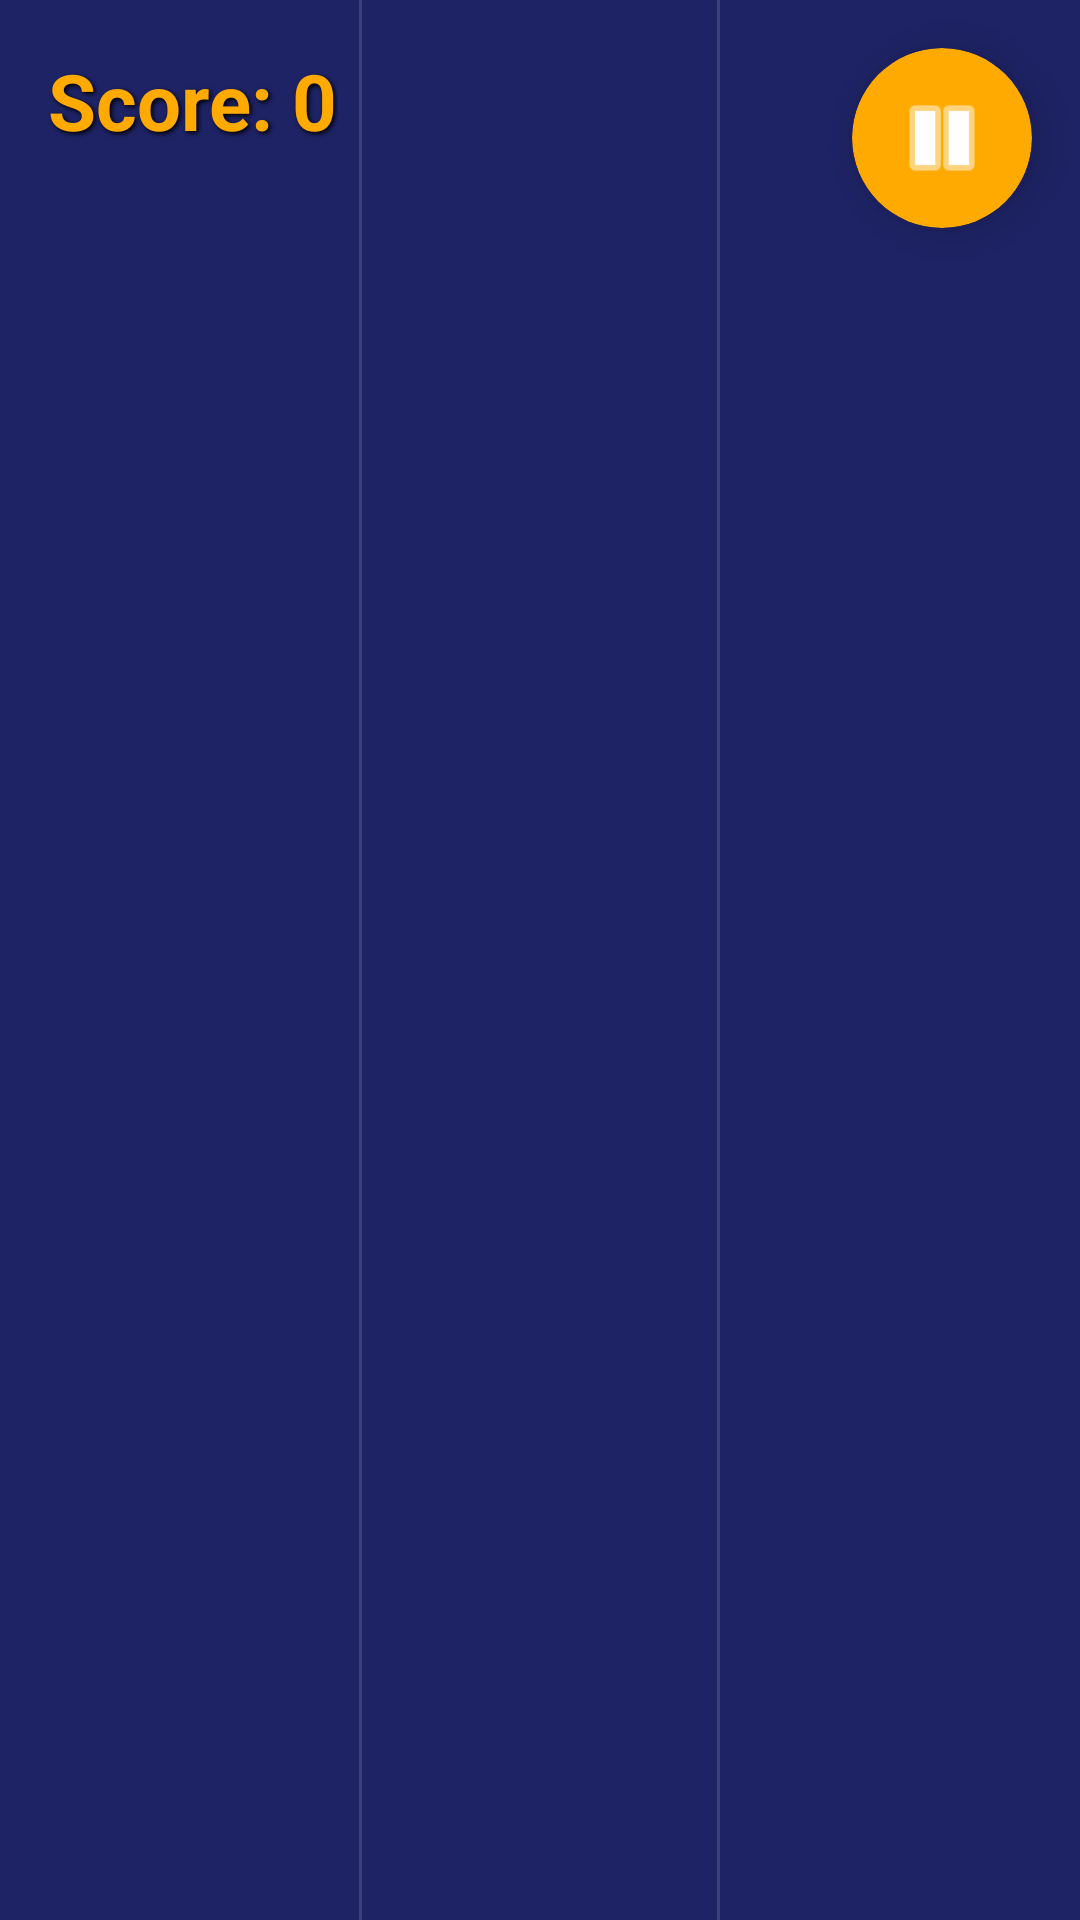

Screen size 1080x1920. Icon name, then its center in pixels as (x,y):
Pause: (942,138)
